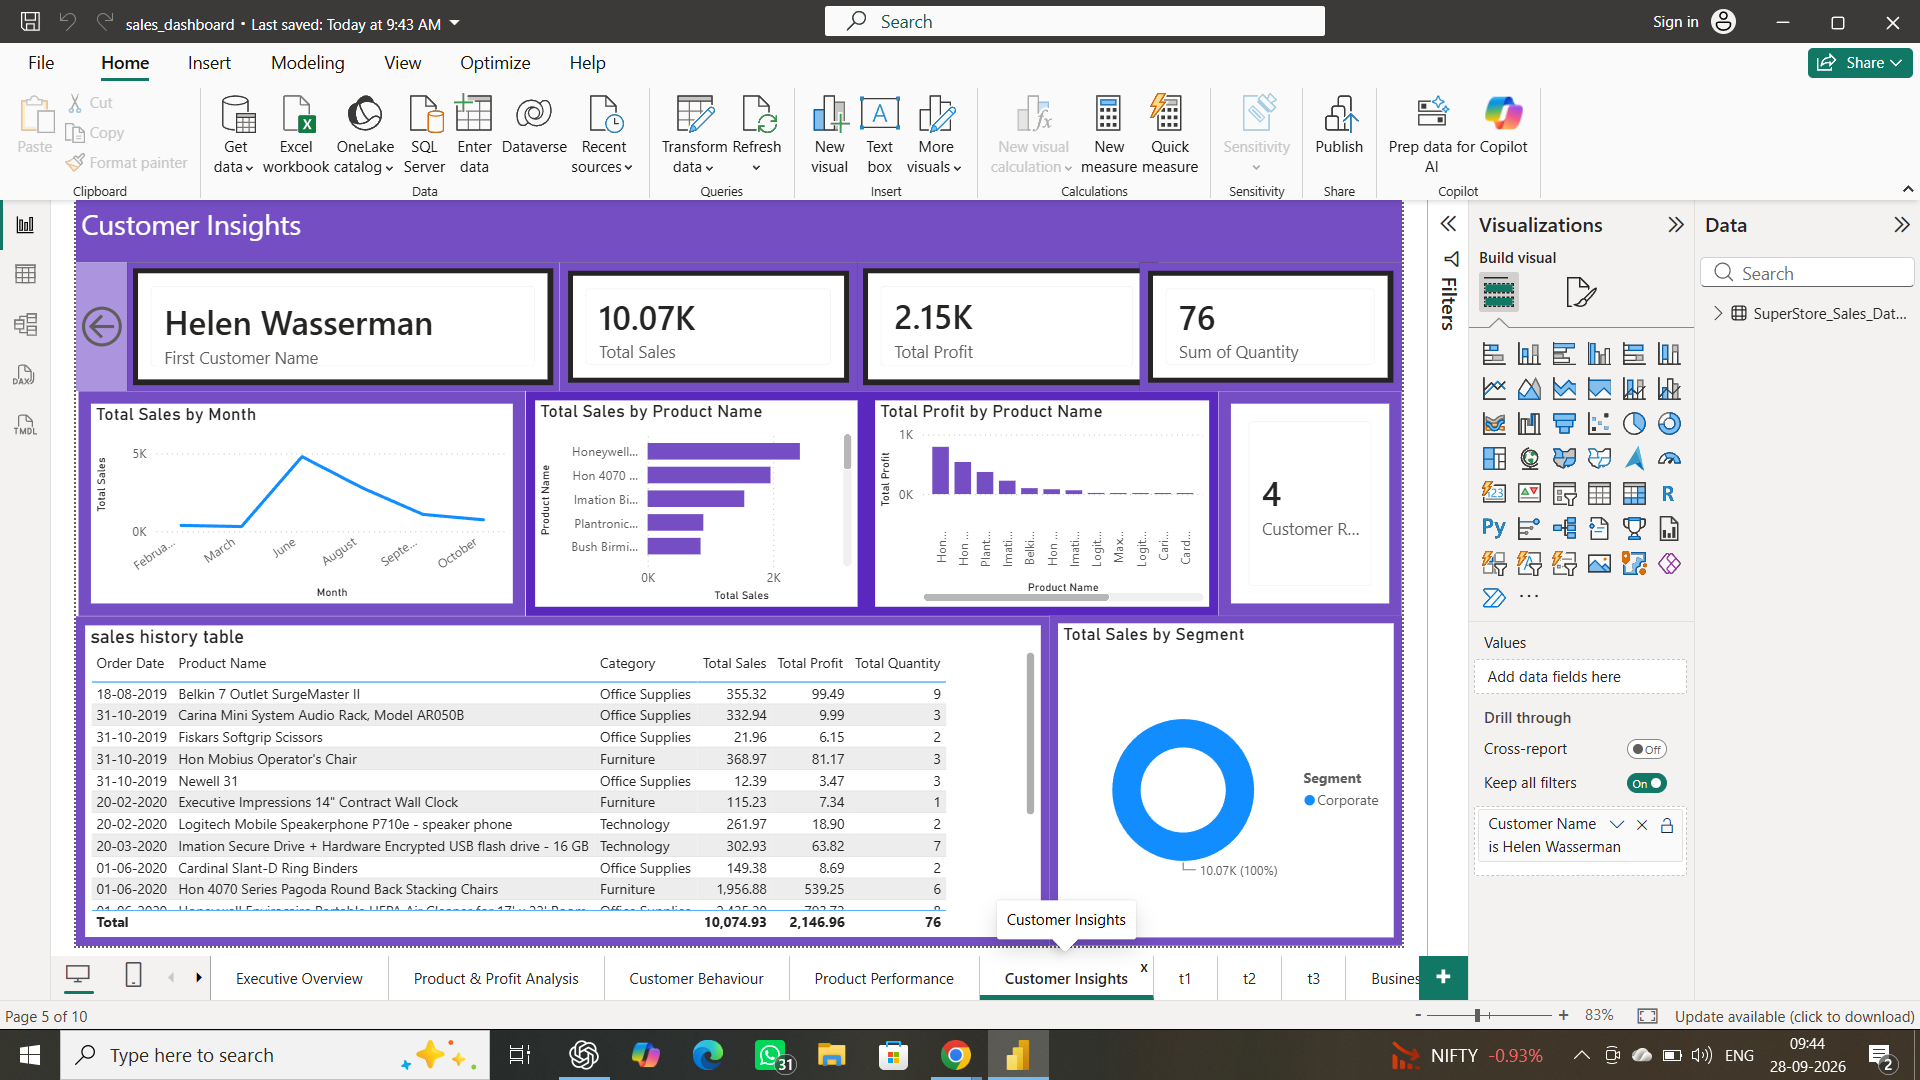

The dashboard page shown, as its layout file describes it:
{"tool":"powerbi","page":{"name":"Customer Insights","canvas":[1280,720],"ordinal":4},"visuals":[{"type":"actionButton","box":[0,60,50,124.3],"z":0},{"type":"textbox","box":[0,0,1280,60],"z":1000},{"type":"cardVisual","fields":{"Data":["Min(SuperStore_Sales_Dataset.Customer Name)"]},"box":[50,60,417.1,124.3],"z":2000},{"type":"cardVisual","fields":{"Data":["SuperStore_Sales_Dataset.Total Sales"]},"box":[467.1,60,287.1,124.3],"z":3000},{"type":"cardVisual","fields":{"Data":["SuperStore_Sales_Dataset.Total Profit"]},"box":[754.3,60,290,124.3],"z":4000},{"type":"cardVisual","fields":{"Data":["Sum(SuperStore_Sales_Dataset.Quantity)"]},"box":[1027.1,60,252.9,124.3],"z":5000},{"type":"lineChart","fields":{"Category":["SuperStore_Sales_Dataset.Order Date.Variation.Date Hierarchy.Month"],"Y":["SuperStore_Sales_Dataset.Total Sales"]},"box":[2.9,184.3,431.4,217.1],"z":6000},{"type":"tableEx","title":"sales history table","fields":{"Values":["SuperStore_Sales_Dataset.Order Date","SuperStore_Sales_Dataset.Product Name","SuperStore_Sales_Dataset.Category","SuperStore_Sales_Dataset.Total Sales","SuperStore_Sales_Dataset.Total Profit","SuperStore_Sales_Dataset.Total Quantity"]},"box":[0,401.4,940,318.6],"z":7000},{"type":"clusteredBarChart","fields":{"Category":["SuperStore_Sales_Dataset.Product Name"],"Y":["SuperStore_Sales_Dataset.Total Sales"]},"box":[434.3,184.3,328.6,217.1],"z":8000},{"type":"clusteredColumnChart","fields":{"Category":["SuperStore_Sales_Dataset.Product Name"],"Y":["SuperStore_Sales_Dataset.Total Profit"]},"box":[762.9,184.3,340,217.1],"z":9000},{"type":"donutChart","fields":{"Category":["SuperStore_Sales_Dataset.Segment"],"Y":["SuperStore_Sales_Dataset.Total Sales"]},"box":[940,401,340,319],"z":10000},{"type":"cardVisual","fields":{"Data":["SuperStore_Sales_Dataset.Customer Rank"]},"box":[1103,184,177,217],"z":11000}]}

Visuals, with their boxes on the page's 1280x720 design canvas (x1, y1, x2, y2). These are canvas units, not pixel positions in the 1920x1080 screenshot, which may show the page scaled, cropped or inside an application window:
actionButton: 0/60/50/184
textbox: 0/0/1280/60
cardVisual - Min(SuperStore_Sales_Dataset.Customer Name): 50/60/467/184
cardVisual - SuperStore_Sales_Dataset.Total Sales: 467/60/754/184
cardVisual - SuperStore_Sales_Dataset.Total Profit: 754/60/1044/184
cardVisual - Sum(SuperStore_Sales_Dataset.Quantity): 1027/60/1280/184
lineChart - SuperStore_Sales_Dataset.Order Date.Variation.Date Hierarchy.Month x SuperStore_Sales_Dataset.Total Sales: 3/184/434/401
"sales history table" tableEx: 0/401/940/720
clusteredBarChart - SuperStore_Sales_Dataset.Product Name x SuperStore_Sales_Dataset.Total Sales: 434/184/763/401
clusteredColumnChart - SuperStore_Sales_Dataset.Product Name x SuperStore_Sales_Dataset.Total Profit: 763/184/1103/401
donutChart - SuperStore_Sales_Dataset.Segment x SuperStore_Sales_Dataset.Total Sales: 940/401/1280/720
cardVisual - SuperStore_Sales_Dataset.Customer Rank: 1103/184/1280/401
